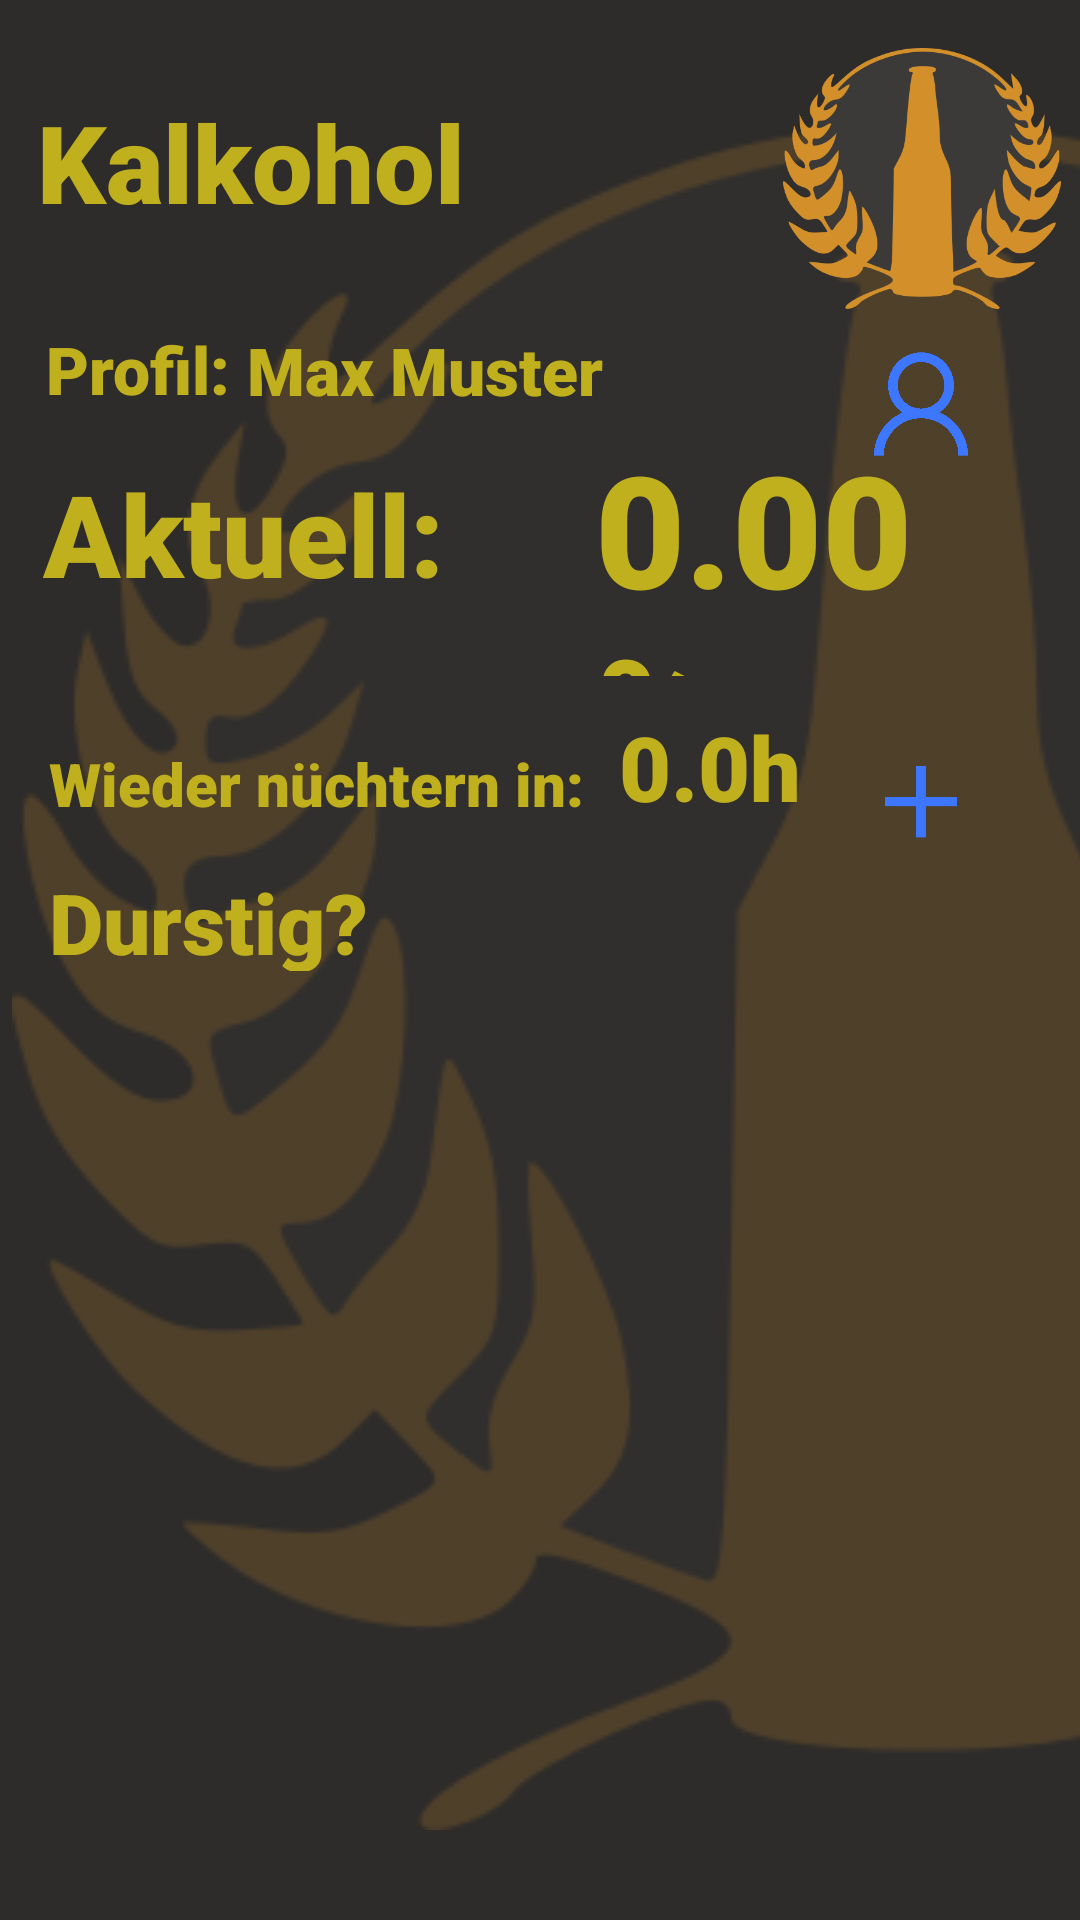

Named icons in this screenshot (1080 x 1920) and their bounding boxes, (x1, y1, x2, y2):
plus: (885, 766, 957, 838)
user: (874, 352, 968, 456)
